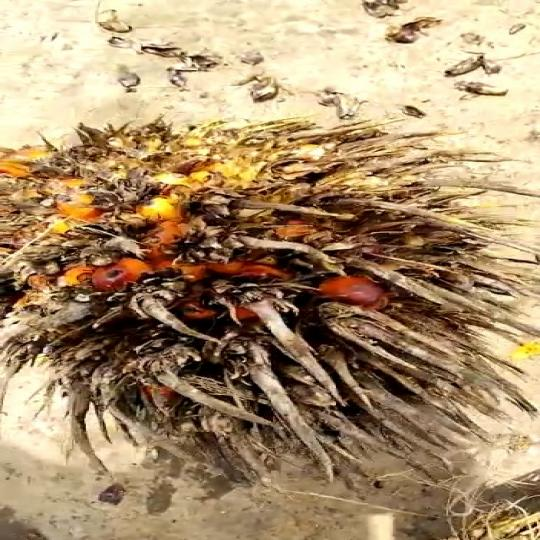terlalu masak: (0, 108, 540, 487)
